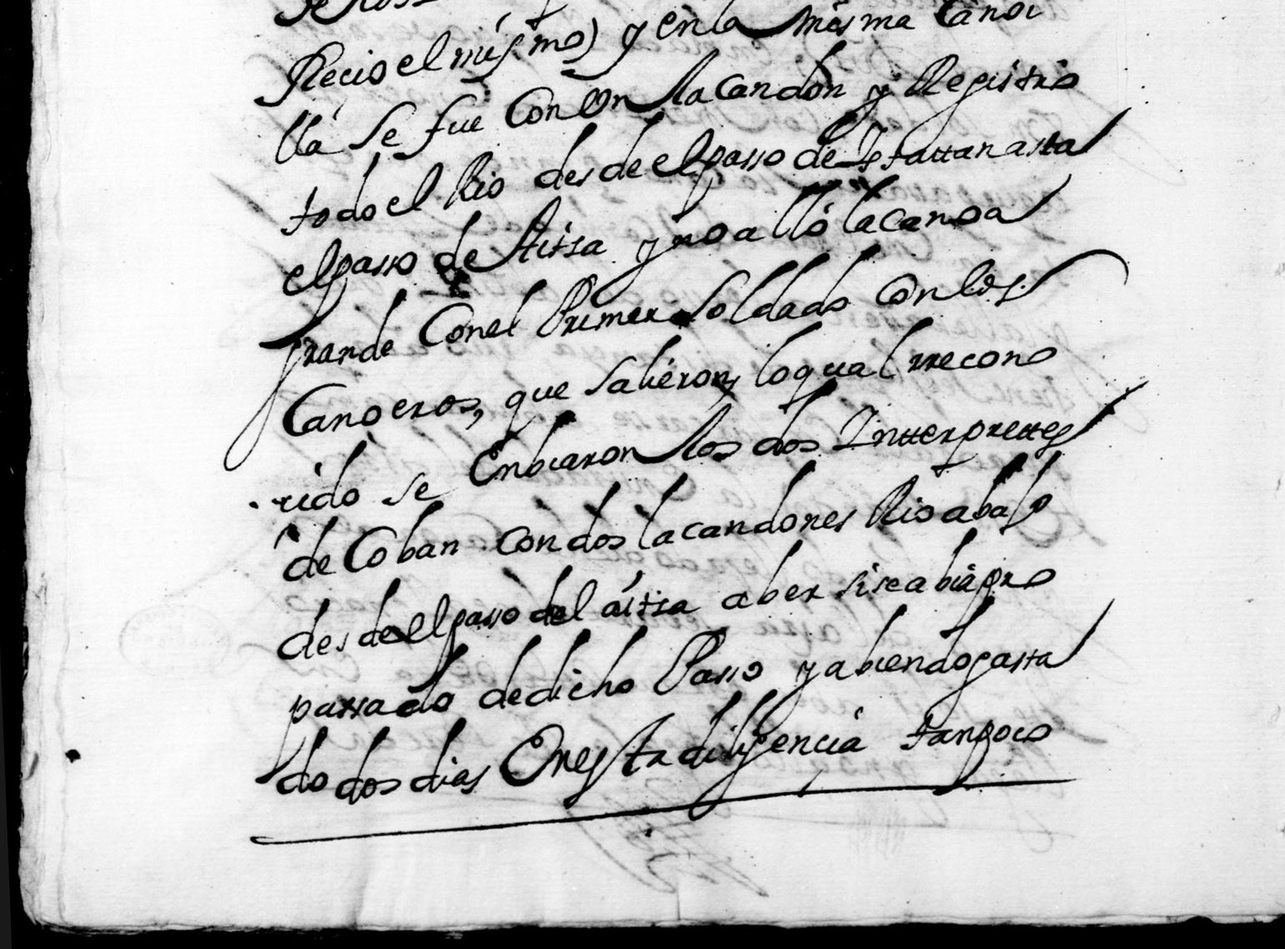lacandon: (638, 459, 857, 550), (671, 39, 846, 105)
